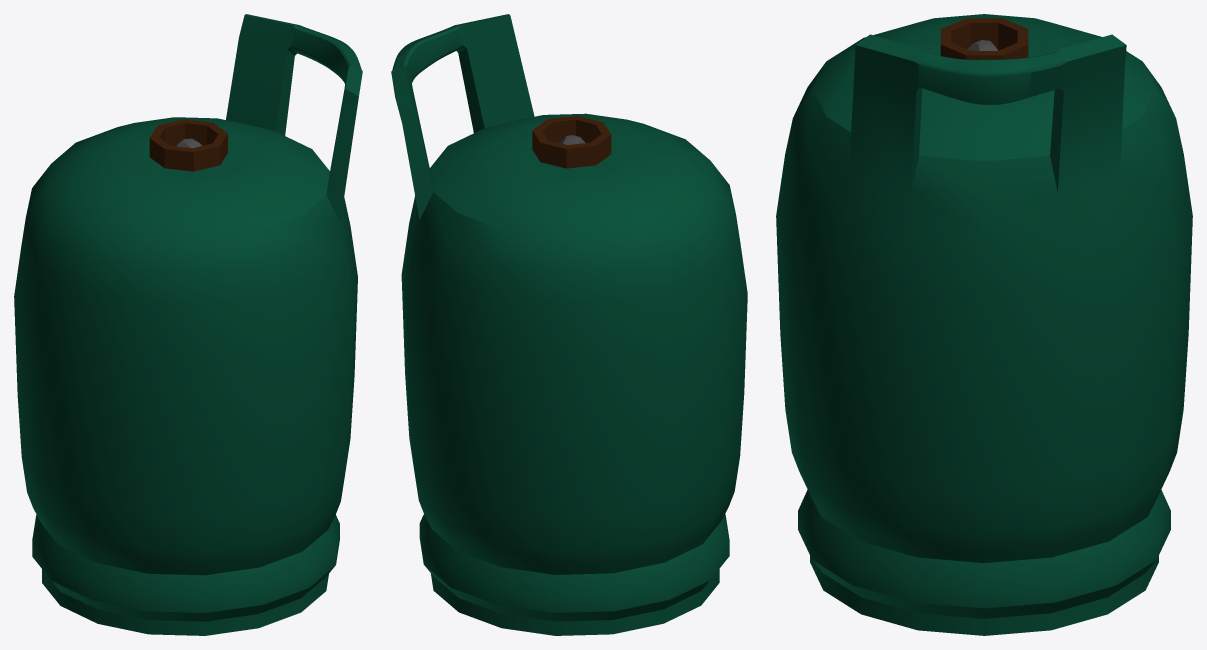
File: gas10.glb
3 renders of one model, left to right at view 1: azimuth 30°, elevation 25°; view 2: azimuth 150°, elevation 25°; view 3: azimuth 270°, elevation 25°, orthographic. The views are drawn at different scales.
Visible parts, largest first — view 1: Gas10; view 2: Gas10; view 3: Gas10.
Boxes of the visible parts, x1,y1,x2,y2 form: Gas10: (14,14,362,635); Gas10: (391,14,747,635); Gas10: (776,14,1192,635).
Bounding box in the file's own units: 2.37 × 3.53 × 2.25.
